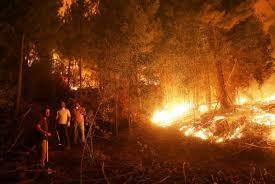fire: (150, 80, 274, 144), (48, 48, 100, 89), (56, 0, 101, 19)
